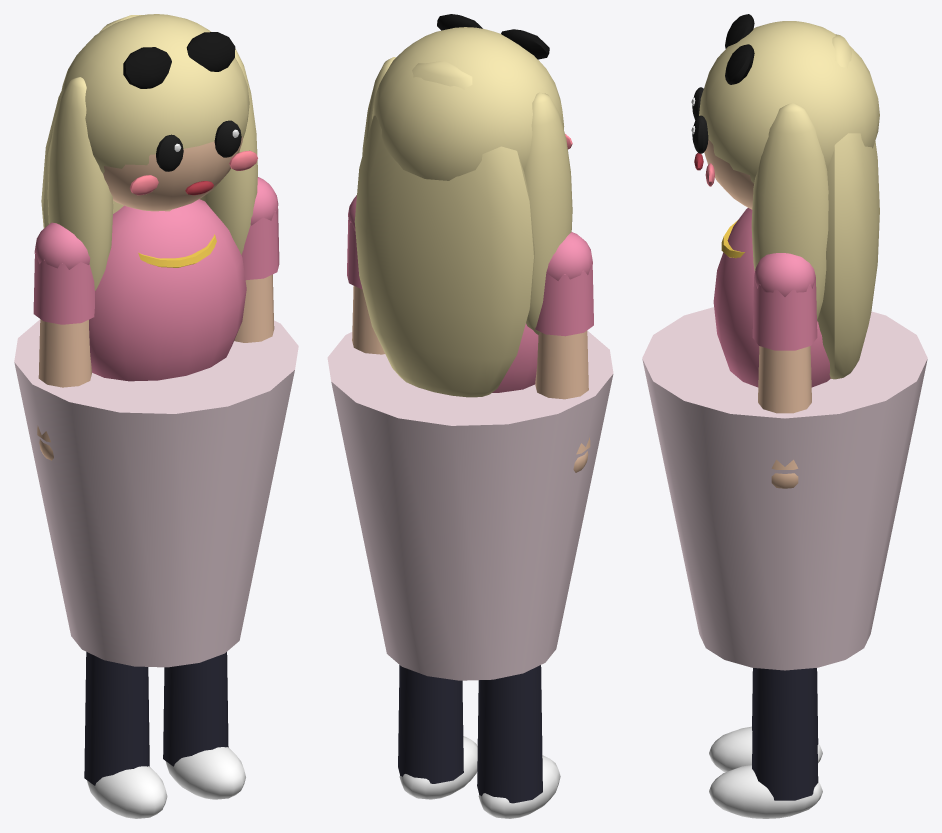
The model's file is hustle_influencer.glb.
3 renders of one model, left to right at view 1: azimuth 30°, elevation 25°; view 2: azimuth 150°, elevation 25°; view 3: azimuth 270°, elevation 25°, orthographic.
Visible parts, largest first — view 1: Body.002, Leg_R.002, Leg_L.002, Arm_R.002, Arm_L.002; view 2: Body.002, Leg_R.002, Leg_L.002, Arm_R.002, Arm_L.002; view 3: Body.002, Leg_L.002, Arm_L.002, Leg_R.002.
Boxes of the visible parts, x1,y1,x2,y2 form: Body.002: [14, 14, 298, 667]; Leg_R.002: [84, 652, 167, 818]; Leg_L.002: [163, 652, 245, 799]; Arm_R.002: [33, 222, 94, 460]; Arm_L.002: [234, 177, 279, 342]; Body.002: [327, 14, 613, 680]; Leg_R.002: [477, 665, 560, 818]; Leg_L.002: [398, 665, 477, 799]; Arm_R.002: [535, 232, 593, 472]; Arm_L.002: [347, 195, 384, 354]; Body.002: [642, 14, 927, 670]; Leg_L.002: [709, 668, 822, 818]; Arm_L.002: [752, 253, 817, 488]; Leg_R.002: [709, 668, 822, 772].
Bounding box in the file's own units: 0.6 × 1.78 × 0.6.
